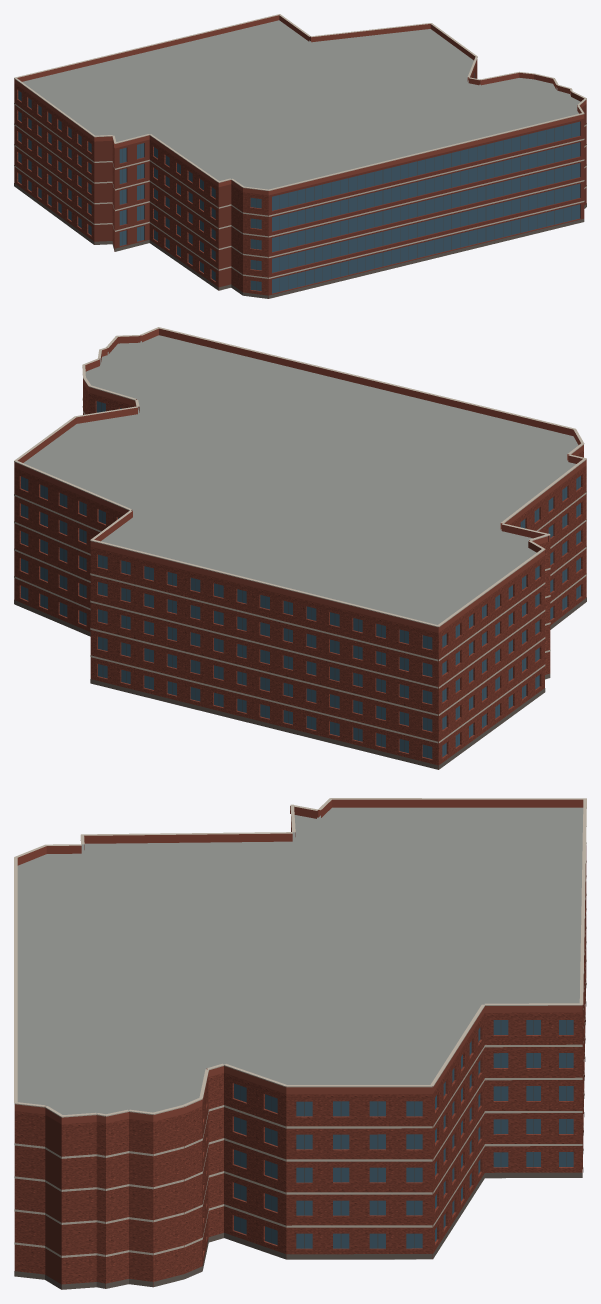
3 renders of one model, top to bottom at view 1: azimuth 30°, elevation 25°; view 2: azimuth 150°, elevation 25°; view 3: azimuth 270°, elevation 25°, orthographic. The views are drawn at different scales.
Visible parts, largest first — view 1: law__roof, law__glass, law__wall, law__wall2, law__trim, law__parapet, law__frame, law__base; view 2: law__roof, law__wall, law__glass, law__trim, law__parapet, law__base, law__frame; view 3: law__roof, law__wall, law__trim, law__glass, law__parapet, law__base, law__wall2, law__frame.
Boxes of the visible parts, x1,y1,x2,y2 form: law__roof: (22, 20, 580, 189); law__glass: (18, 73, 580, 293); law__wall: (14, 62, 477, 295); law__wall2: (94, 104, 586, 298); law__trim: (14, 14, 586, 278); law__parapet: (14, 15, 586, 195); law__frame: (122, 124, 571, 291); law__base: (14, 183, 586, 298); law__roof: (23, 335, 578, 624); law__wall: (14, 379, 586, 769); law__glass: (21, 401, 580, 758); law__trim: (14, 327, 586, 743); law__parapet: (14, 328, 586, 632); law__base: (14, 597, 586, 769); law__frame: (25, 402, 578, 757); law__roof: (17, 807, 583, 1259); law__wall: (14, 845, 586, 1288); law__trim: (14, 798, 586, 1257); law__glass: (234, 1020, 573, 1248); law__parapet: (14, 799, 583, 1124); law__base: (14, 983, 586, 1289); law__wall2: (45, 817, 291, 1289); law__frame: (240, 1020, 566, 1248).
Size of the model in its own units: 76.56 by 19.42 by 58.18.
8 materials, 1 textured.
